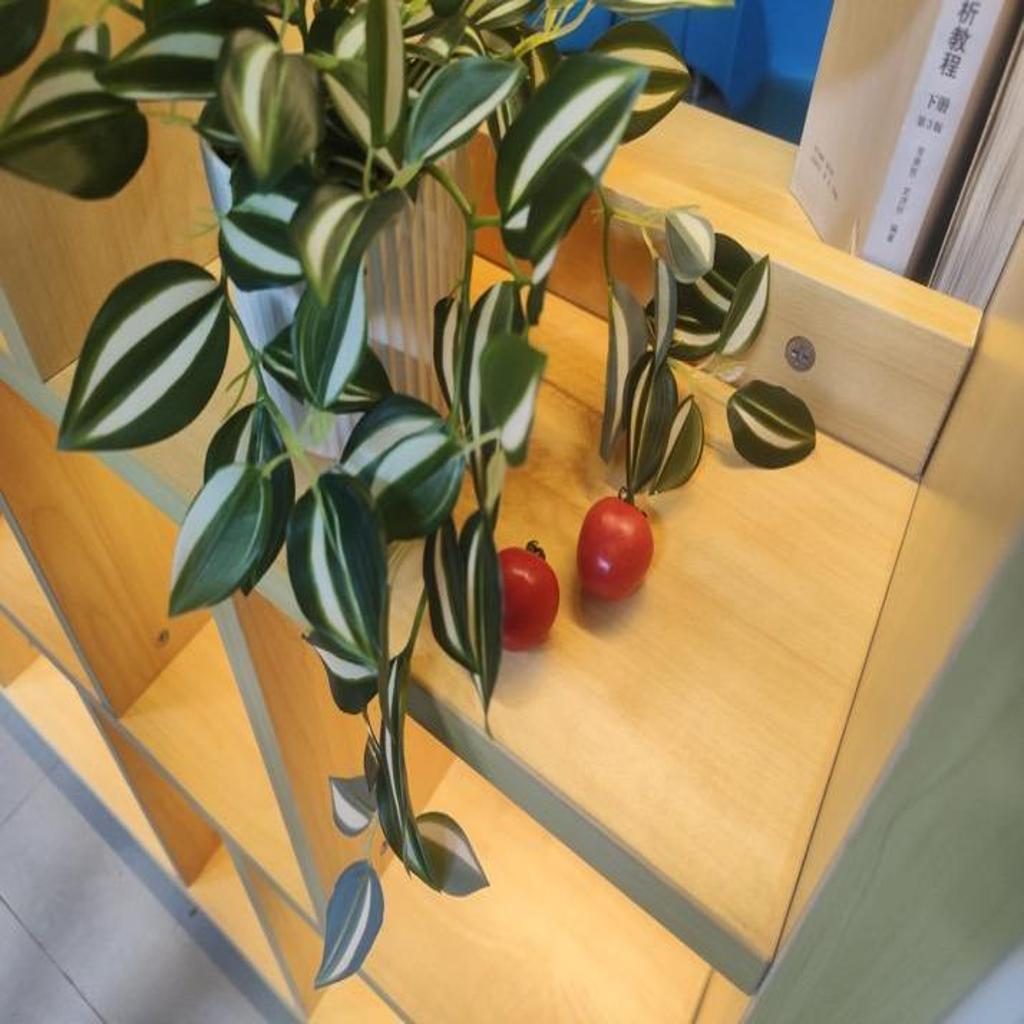tomato: (578, 484, 655, 607), (488, 541, 561, 647)
